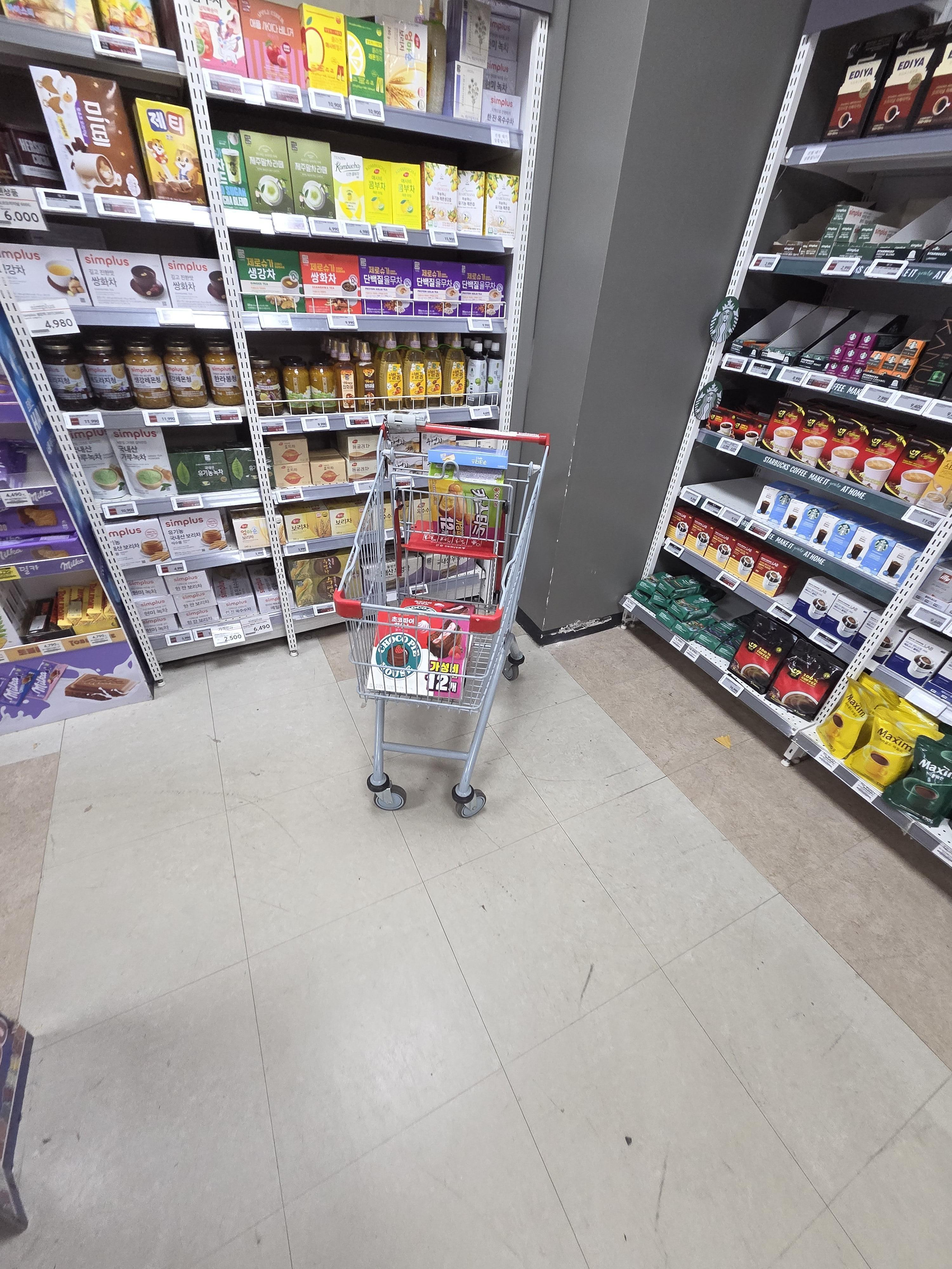fully_cart: (315, 400, 566, 829)
